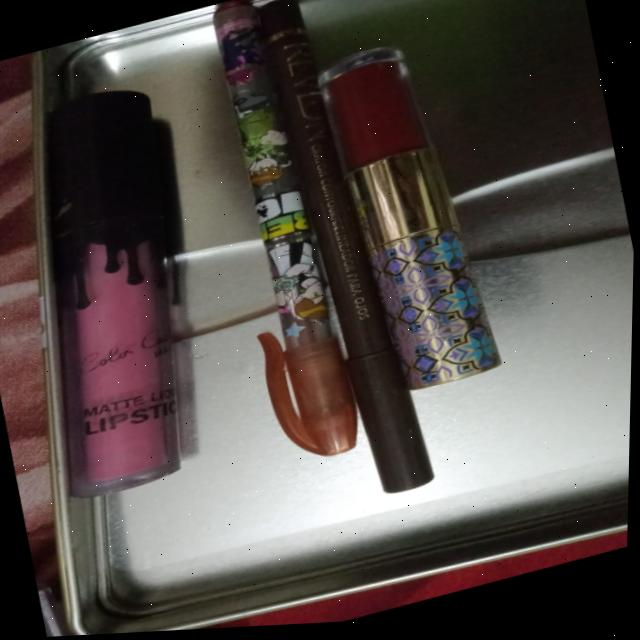eye liner: (236, 0, 468, 515)
lip gloss: (0, 66, 260, 532), (295, 31, 538, 436)
